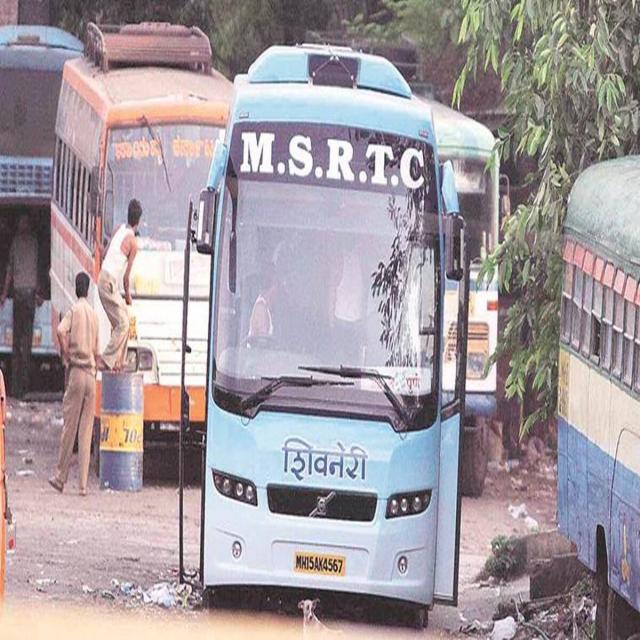BUS: (208, 41, 452, 628), (44, 19, 236, 467)
